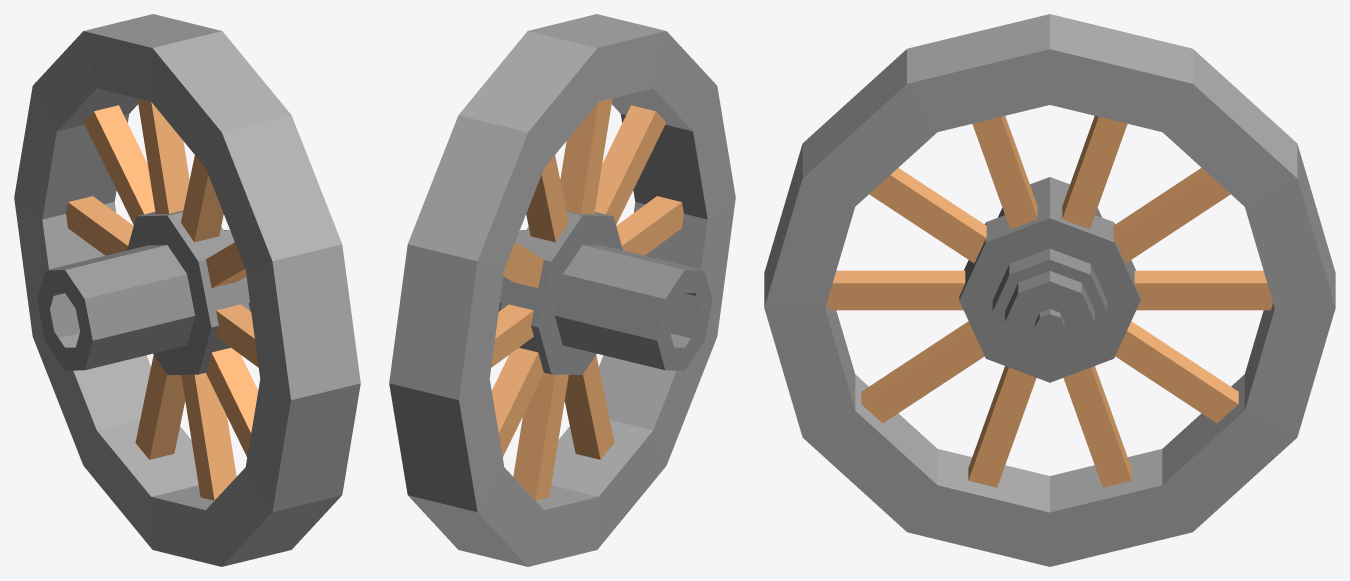
File: wheel.02.fbx
3 renders of one model, left to right at view 1: azimuth 30°, elevation 25°; view 2: azimuth 150°, elevation 25°; view 3: azimuth 270°, elevation 25°, orthographic. The views are drawn at different scales.
Parts seen in each view (by area): view 1: wheel.02; view 2: wheel.02; view 3: wheel.02.
Part boxes in pixels (box(x1,y1,x2,y2)): wheel.02: box(14, 14, 360, 566); wheel.02: box(389, 14, 735, 566); wheel.02: box(764, 14, 1335, 566).
Bounding box in the file's own units: 0.429 × 1.05 × 1.05.
